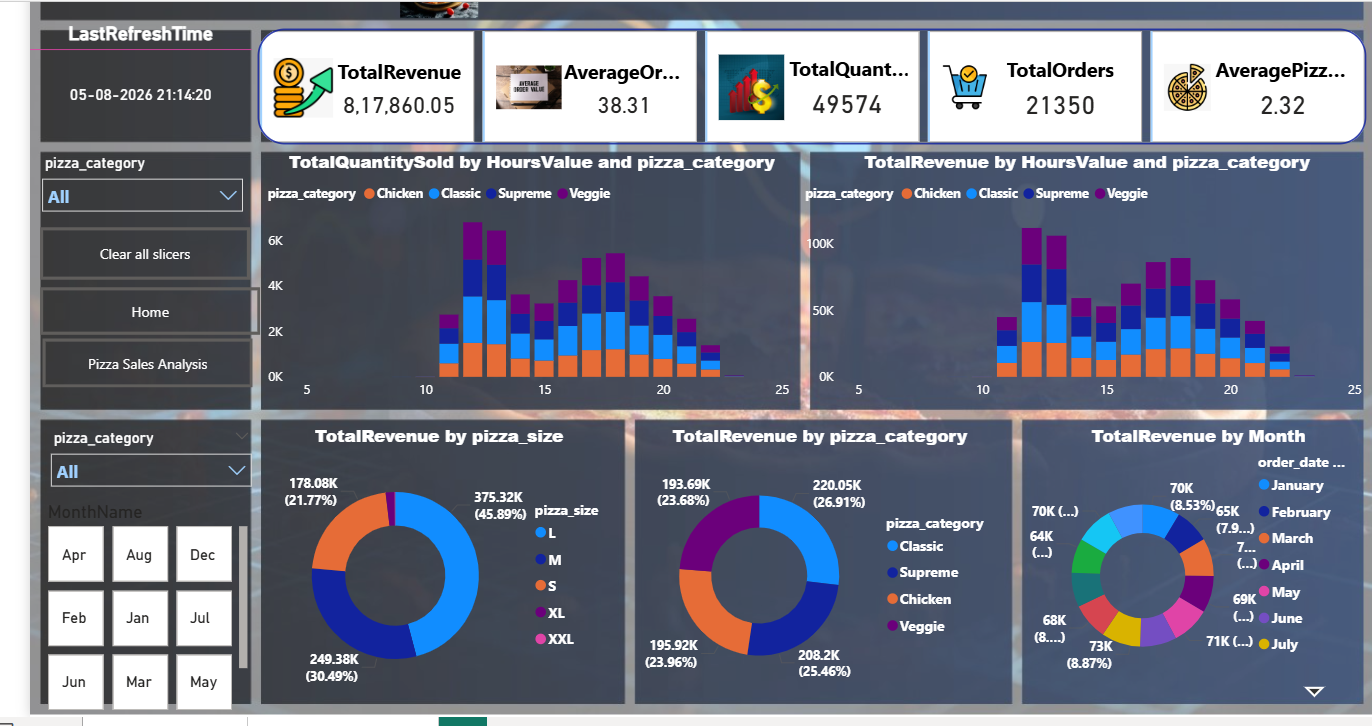

This screenshot's page, from the dashboard's own definition file:
{"tool":"powerbi","page":{"name":"HomePage","canvas":[1280,720],"ordinal":0},"visuals":[{"type":"cardVisual","fields":{"Data":["pizza_sales.TotalRevenue","pizza_sales.AverageOrderValue","pizza_sales.TotalQuantitySold","pizza_sales.TotalOrders","pizza_sales.AveragePizzaPerorder"]},"box":[211.3,59,1069,120.8],"z":0},{"type":"columnChart","fields":{"Category":["pizza_sales.HoursValue"],"Y":["pizza_sales.TotalQuantitySold"],"Series":["pizza_sales.pizza_category"]},"box":[221.1,180.3,512.7,246.5],"z":1000},{"type":"columnChart","fields":{"Category":["pizza_sales.HoursValue"],"Y":["pizza_sales.TotalRevenue"],"Series":["pizza_sales.pizza_category"]},"box":[733.8,180.3,546.5,246.5],"z":2000},{"type":"donutChart","fields":{"Y":["pizza_sales.TotalRevenue"],"Category":["pizza_sales.order_date.Variation.Date Hierarchy.Year","pizza_sales.order_date.Variation.Date Hierarchy.Quarter","pizza_sales.order_date.Variation.Date Hierarchy.Month"]},"box":[945.1,440.8,335.2,267.6],"z":3000},{"type":"donutChart","fields":{"Y":["pizza_sales.TotalRevenue"],"Category":["pizza_sales.pizza_category"]},"box":[569,440.8,366.2,267.6],"z":4000},{"type":"donutChart","fields":{"Y":["pizza_sales.TotalRevenue"],"Category":["pizza_sales.pizza_size"]},"box":[211.3,440.8,357.7,267.6],"z":5000},{"type":"slicer","fields":{"Values":["pizza_sales.pizza_category"]},"box":[1.4,178.9,211.3,262],"z":6000},{"type":"slicer","fields":{"Values":["pizza_sales.pizza_category"]},"box":[9.9,440.8,211.3,262],"z":7000},{"type":"textbox","box":[1.2,0,1279.3,58.5],"z":8000},{"type":"card","title":"LastRefreshTime","fields":{"Values":["Min(pizza_sales.LastRefreshDateTime)"]},"box":[0,58.5,211,112.2],"z":9000},{"type":"actionButton","box":[9.5,253.6,200,50],"z":10000},{"type":"actionButton","box":[9.6,310.1,209.9,45.3],"z":11000},{"type":"actionButton","box":[12.3,359.5,200.3,46.7],"z":12000},{"type":"advancedSlicerVisual","fields":{"Values":["pizza_sales.MonthName"]},"box":[11.9,514.3,200,206],"z":13000},{"type":"image","box":[337.6,0,102.9,59],"z":14000}]}

Visuals, with their boxes on the page's 1280x720 design canvas (x1, y1, x2, y2). These are canvas units, not pixel positions in the 1372x726 screenshot, which may show the page scaled, cropped or inside an application window:
cardVisual - pizza_sales.TotalRevenue x pizza_sales.AverageOrderValue: rect(211, 59, 1280, 180)
columnChart - pizza_sales.HoursValue x pizza_sales.TotalQuantitySold: rect(221, 180, 734, 427)
columnChart - pizza_sales.HoursValue x pizza_sales.TotalRevenue: rect(734, 180, 1280, 427)
donutChart - pizza_sales.TotalRevenue x pizza_sales.order_date.Variation.Date Hierarchy.Year: rect(945, 441, 1280, 708)
donutChart - pizza_sales.TotalRevenue x pizza_sales.pizza_category: rect(569, 441, 935, 708)
donutChart - pizza_sales.TotalRevenue x pizza_sales.pizza_size: rect(211, 441, 569, 708)
slicer - pizza_sales.pizza_category: rect(1, 179, 213, 441)
slicer - pizza_sales.pizza_category: rect(10, 441, 221, 703)
textbox: rect(1, 0, 1280, 58)
"LastRefreshTime" card: rect(0, 58, 211, 171)
actionButton: rect(10, 254, 210, 304)
actionButton: rect(10, 310, 220, 355)
actionButton: rect(12, 360, 213, 406)
advancedSlicerVisual - pizza_sales.MonthName: rect(12, 514, 212, 720)
image: rect(338, 0, 440, 59)
